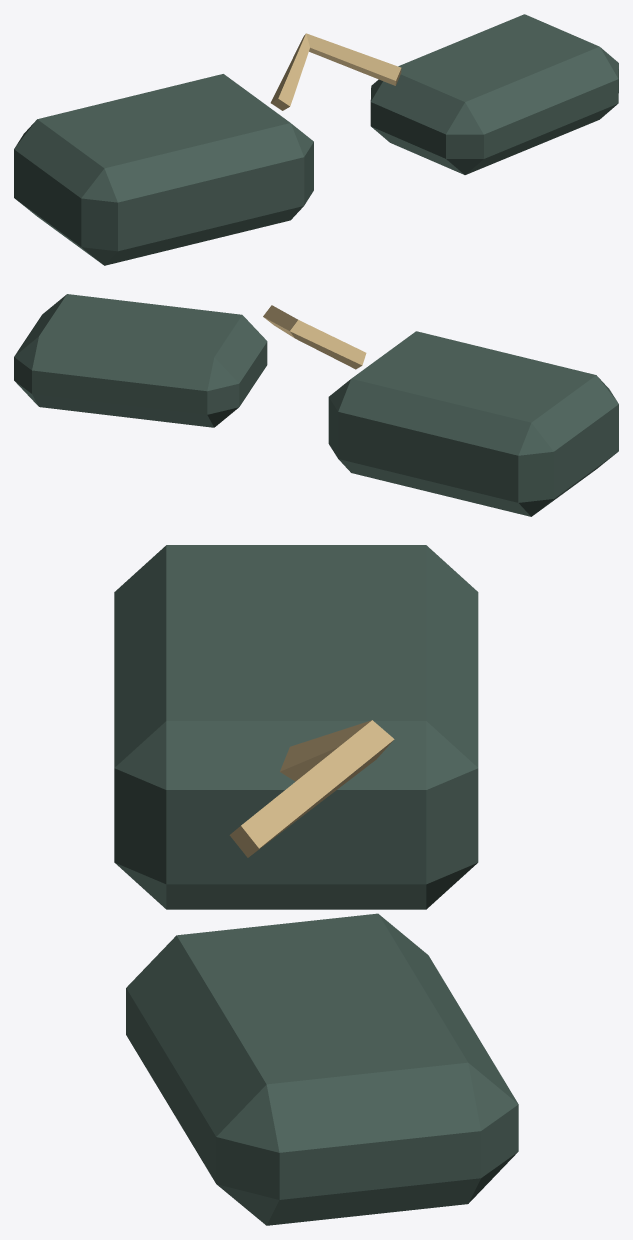
Rendered from torn-net.glb.
3 views of the same model, one above another, from view 1: azimuth 30°, elevation 25°; view 2: azimuth 150°, elevation 25°; view 3: azimuth 270°, elevation 25° (orthographic). The views are drawn at different scales.
Parts seen in each view (by area): view 1: torn-net; view 2: torn-net; view 3: torn-net.
Boxes of the visible parts, <box> form: torn-net: <box>14,14,618,265</box>; torn-net: <box>14,294,618,516</box>; torn-net: <box>114,545,518,1225</box>.
Bounding box in the file's own units: 0.4871 × 0.1079 × 0.1555.
